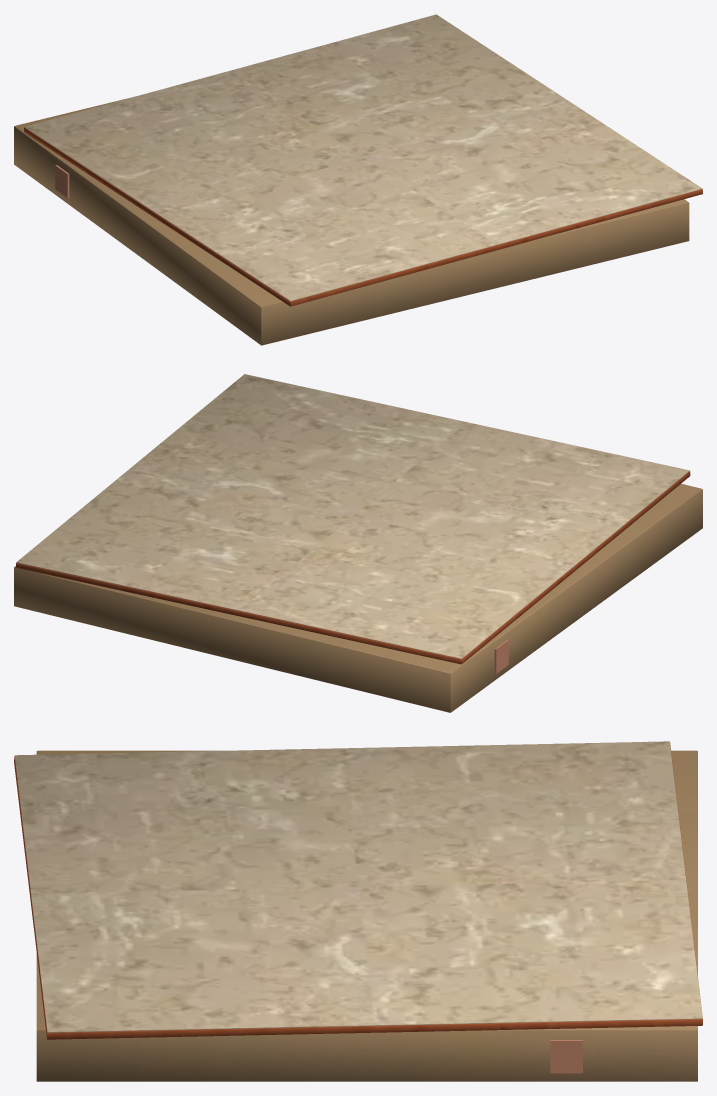
The model's file is PIS-CER-002_lod1.glb.
3 views of the same model, one above another, from view 1: azimuth 30°, elevation 25°; view 2: azimuth 150°, elevation 25°; view 3: azimuth 270°, elevation 25° (orthographic). The views are drawn at different scales.
Parts seen in each view (by area): view 1: PIS-CER-002_face, PIS-CER-002_caixa, PIS-CER-002_corpo; view 2: PIS-CER-002_face, PIS-CER-002_caixa, PIS-CER-002_corpo; view 3: PIS-CER-002_face, PIS-CER-002_caixa, PIS-CER-002_corpo, PIS-CER-002_faixa.
Part boxes in pixels (<box>): PIS-CER-002_face: <box>24,14,702,301</box>; PIS-CER-002_caixa: <box>14,97,689,345</box>; PIS-CER-002_corpo: <box>24,127,702,306</box>; PIS-CER-002_face: <box>16,374,689,659</box>; PIS-CER-002_caixa: <box>14,483,702,712</box>; PIS-CER-002_corpo: <box>16,471,690,664</box>; PIS-CER-002_face: <box>14,741,702,1032</box>; PIS-CER-002_caixa: <box>36,750,697,1081</box>; PIS-CER-002_corpo: <box>14,743,702,1039</box>; PIS-CER-002_faixa: <box>550,1040,582,1073</box>.
Bounding box in the file's own units: 0.6303 × 0.0625 × 0.6289.
Materials: 6 (4 with a texture image).
